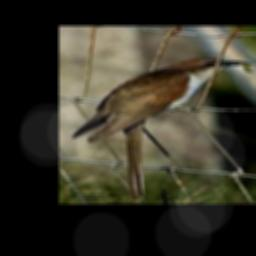Cuckoo: (73, 58, 252, 199)
